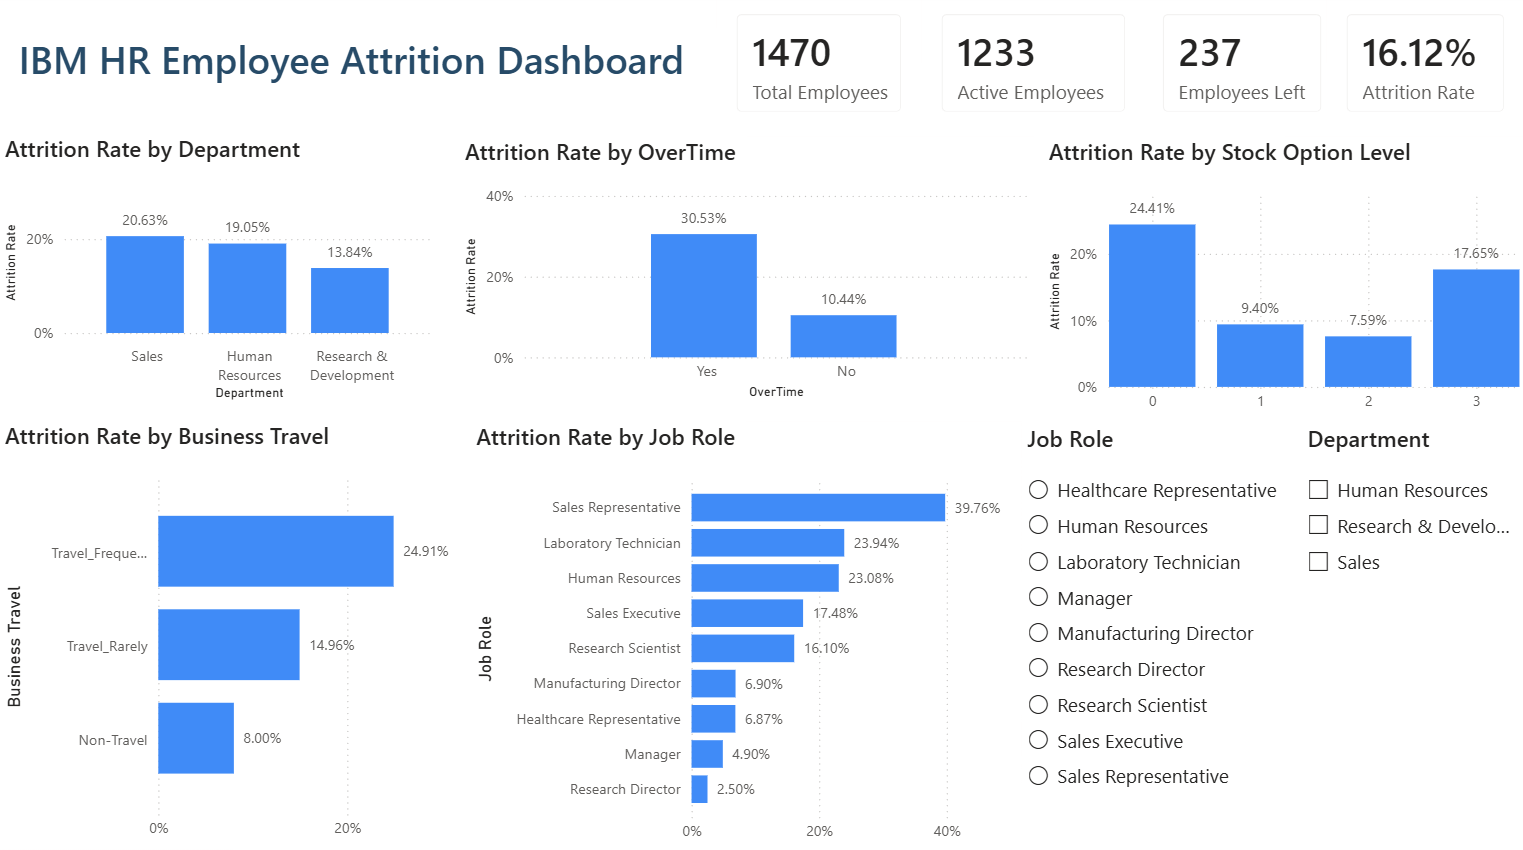

Layout of this report page (visuals, bound fields, positions):
{"tool":"powerbi","page":{"name":"Executive Overview","canvas":[1280,720],"ordinal":0},"visuals":[{"type":"cardVisual","fields":{"Data":["employee_attrition.Total Employees"]},"box":[601.2,0,172.5,116.2],"z":0},{"type":"cardVisual","fields":{"Data":["employee_attrition.Employees Left"]},"box":[958.8,0,167.5,116.2],"z":1000},{"type":"cardVisual","fields":{"Data":["employee_attrition.Active Employees"]},"box":[773.8,0,188.8,116.2],"z":2000},{"type":"cardVisual","fields":{"Data":["employee_attrition.Attrition Rate"]},"box":[1113.8,0,166.2,116.2],"z":3000},{"type":"clusteredColumnChart","fields":{"Category":["employee_attrition.Department"],"Y":["employee_attrition.Attrition Rate"]},"box":[0,116.2,370,228.8],"z":4000},{"type":"clusteredColumnChart","fields":{"Category":["employee_attrition.OverTime"],"Y":["employee_attrition.Attrition Rate"]},"box":[386.2,120,482.5,225],"z":5000},{"type":"clusteredBarChart","title":"Attrition Rate by Job Role","fields":{"Category":["employee_attrition.JobRole"],"Y":["employee_attrition.Attrition Rate"]},"box":[395,358.8,462.5,361.2],"z":6000},{"type":"clusteredBarChart","title":"Attrition Rate by Business Travel","fields":{"Category":["employee_attrition.BusinessTravel"],"Y":["employee_attrition.Attrition Rate"]},"box":[0,357.5,395,360],"z":7000},{"type":"listSlicer","fields":{"Values":["employee_attrition.Department"]},"box":[1092.5,360,187.5,357.5],"z":8000},{"type":"listSlicer","fields":{"Values":["employee_attrition.JobRole"]},"box":[857.5,360,235,360],"z":9000},{"type":"columnChart","title":"Attrition Rate by Stock Option Level","fields":{"Category":["employee_attrition.StockOptionLevel"],"Y":["employee_attrition.Attrition Rate"]},"box":[875,120,405,240],"z":10000},{"type":"textbox","box":[11.2,28.8,590,60],"z":11000}]}

Visuals, with their boxes in screenshot pixels (x1, y1, x2, y2), scaled from the page's 1280x720 canvas onto the 1523x850 screenshot:
cardVisual - employee_attrition.Total Employees: bbox=[715, 0, 921, 137]
cardVisual - employee_attrition.Employees Left: bbox=[1141, 0, 1340, 137]
cardVisual - employee_attrition.Active Employees: bbox=[921, 0, 1145, 137]
cardVisual - employee_attrition.Attrition Rate: bbox=[1325, 0, 1522, 137]
clusteredColumnChart - employee_attrition.Department x employee_attrition.Attrition Rate: bbox=[0, 137, 440, 407]
clusteredColumnChart - employee_attrition.OverTime x employee_attrition.Attrition Rate: bbox=[460, 142, 1034, 407]
"Attrition Rate by Job Role" clusteredBarChart: bbox=[470, 424, 1020, 849]
"Attrition Rate by Business Travel" clusteredBarChart: bbox=[0, 422, 470, 847]
listSlicer - employee_attrition.Department: bbox=[1300, 425, 1522, 847]
listSlicer - employee_attrition.JobRole: bbox=[1020, 425, 1300, 849]
"Attrition Rate by Stock Option Level" columnChart: bbox=[1041, 142, 1522, 425]
textbox: bbox=[13, 34, 715, 105]
